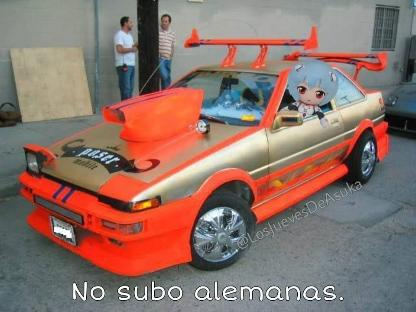rei-plush: (278, 54, 338, 122)
